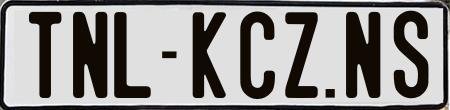C: (239, 8, 278, 101)
K: (193, 10, 232, 96)
L: (113, 11, 152, 97)
N: (73, 9, 111, 100), (344, 11, 383, 99)
S: (394, 11, 430, 98)
T: (27, 9, 61, 95)
Z: (283, 10, 317, 102)
